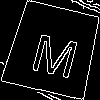M: (28, 24, 85, 79)
